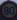Speed Limit -80-: (0, 0, 16, 19)
